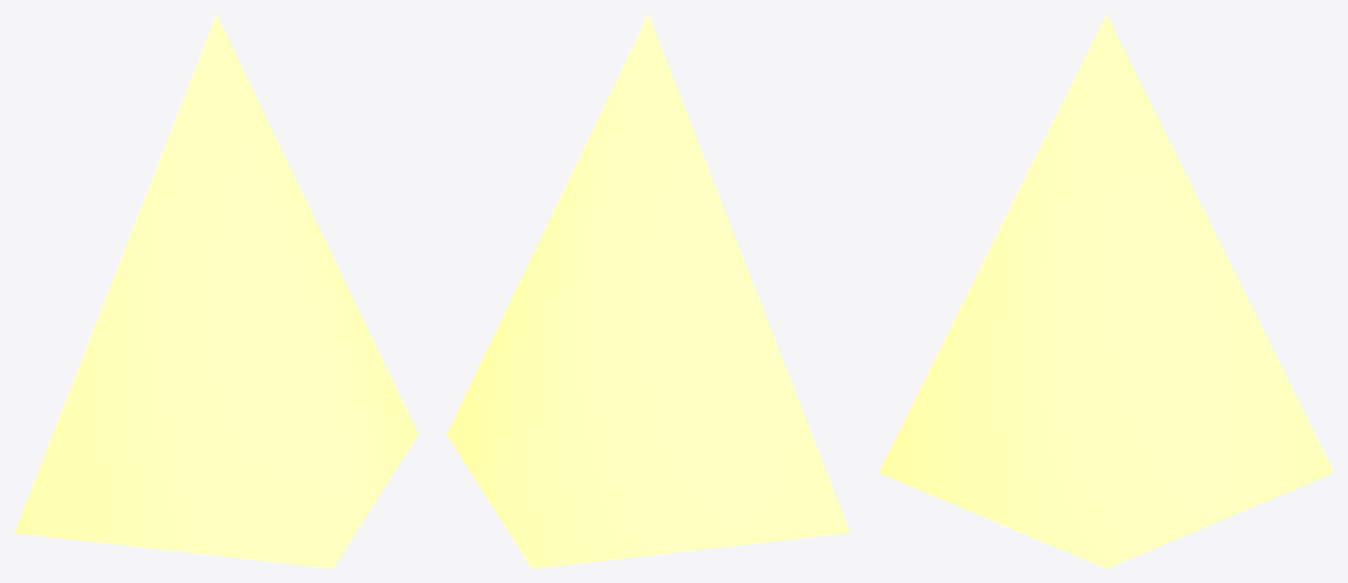
File: SM_dg_flame.glb
3 views of the same model, side by side, from view 1: azimuth 30°, elevation 25°; view 2: azimuth 150°, elevation 25°; view 3: azimuth 270°, elevation 25° (orthographic). The views are drawn at different scales.
Parts seen in each view (by area): view 1: SM_dg_flame; view 2: SM_dg_flame; view 3: SM_dg_flame.
Part boxes in pixels (box(x1,y1,x2,y2)): SM_dg_flame: box(14, 14, 417, 568); SM_dg_flame: box(446, 14, 849, 568); SM_dg_flame: box(878, 14, 1333, 568).
Size of the model in its own units: 0.9 by 1 by 0.9.
